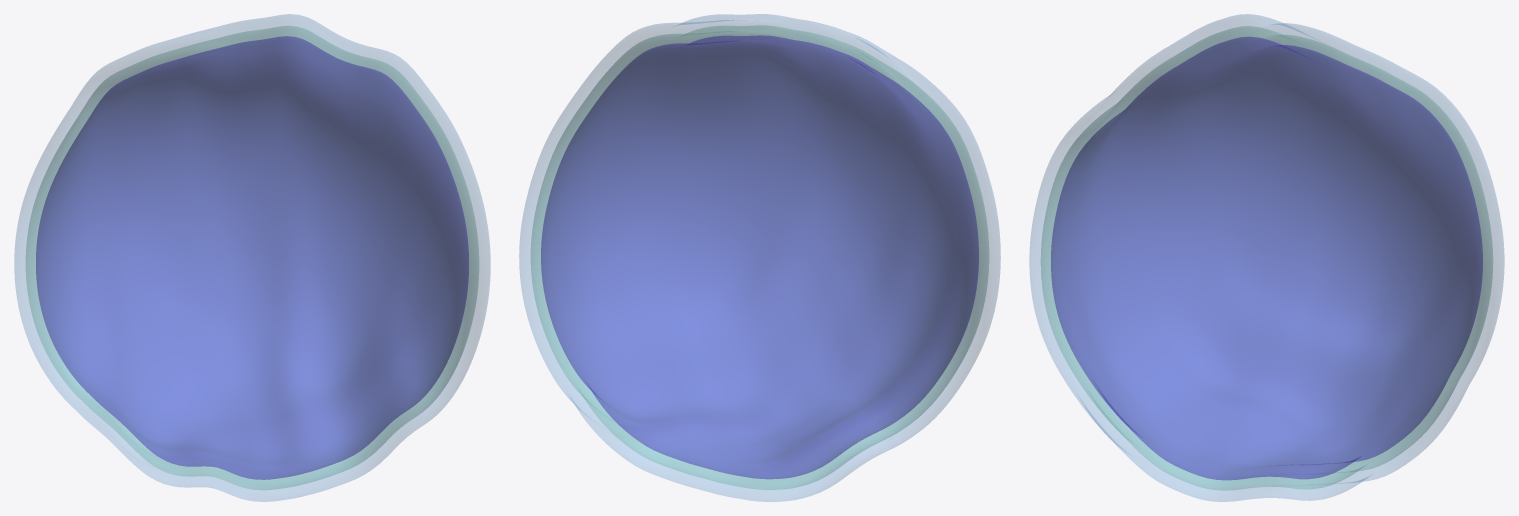
The model's file is aurora.glb.
3 renders of one model, left to right at view 1: azimuth 30°, elevation 25°; view 2: azimuth 150°, elevation 25°; view 3: azimuth 270°, elevation 25°, orthographic.
Visible parts, largest first — view 1: model; view 2: model; view 3: model.
Boxes of the visible parts, bbox=[...] form: model: bbox=[14, 14, 490, 501]; model: bbox=[519, 14, 1000, 501]; model: bbox=[1029, 14, 1504, 501].
Bounding box in the file's own units: 54.29 × 54.85 × 54.29.
